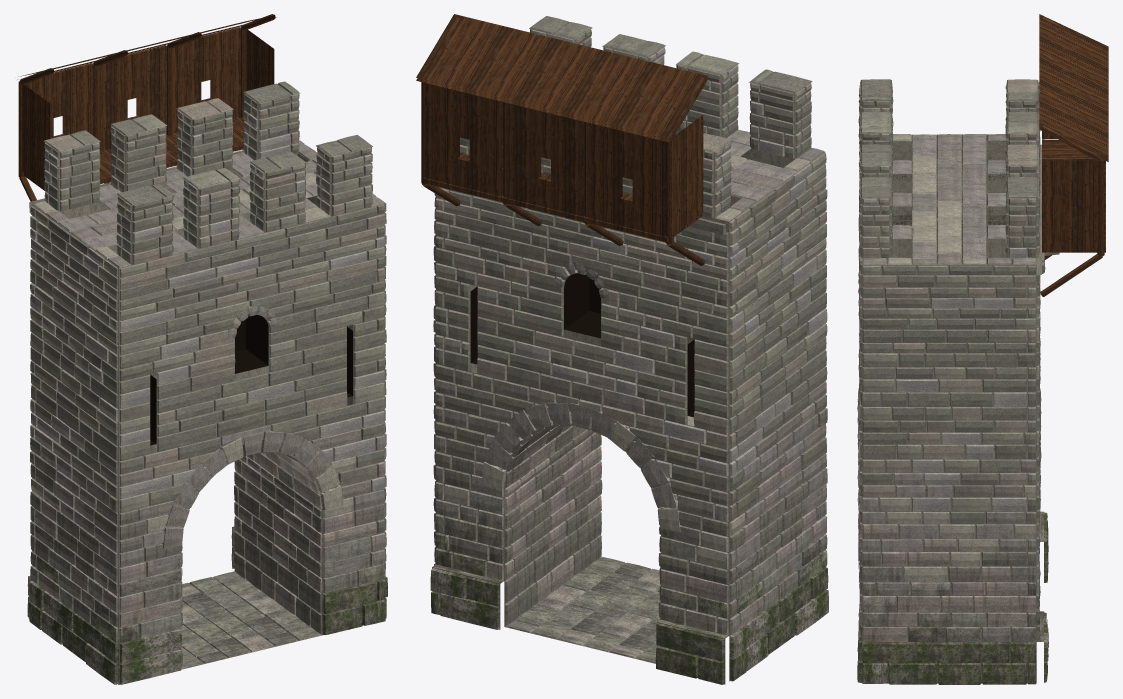
File: town_gatehouse.glb
3 renders of one model, left to right at view 1: azimuth 30°, elevation 25°; view 2: azimuth 150°, elevation 25°; view 3: azimuth 270°, elevation 25°, orthographic. The views are drawn at different scales.
Parts seen in each view (by area): view 1: town_gatehouse; view 2: town_gatehouse; view 3: town_gatehouse.
Part boxes in pixels (x1,y1,x2,y2): town_gatehouse: (17,14,387,684); town_gatehouse: (416,14,828,684); town_gatehouse: (857,14,1108,684).
Bounding box in the file's own units: 6.22 × 11.77 × 4.89.
Materials: 3 (3 with a texture image).
